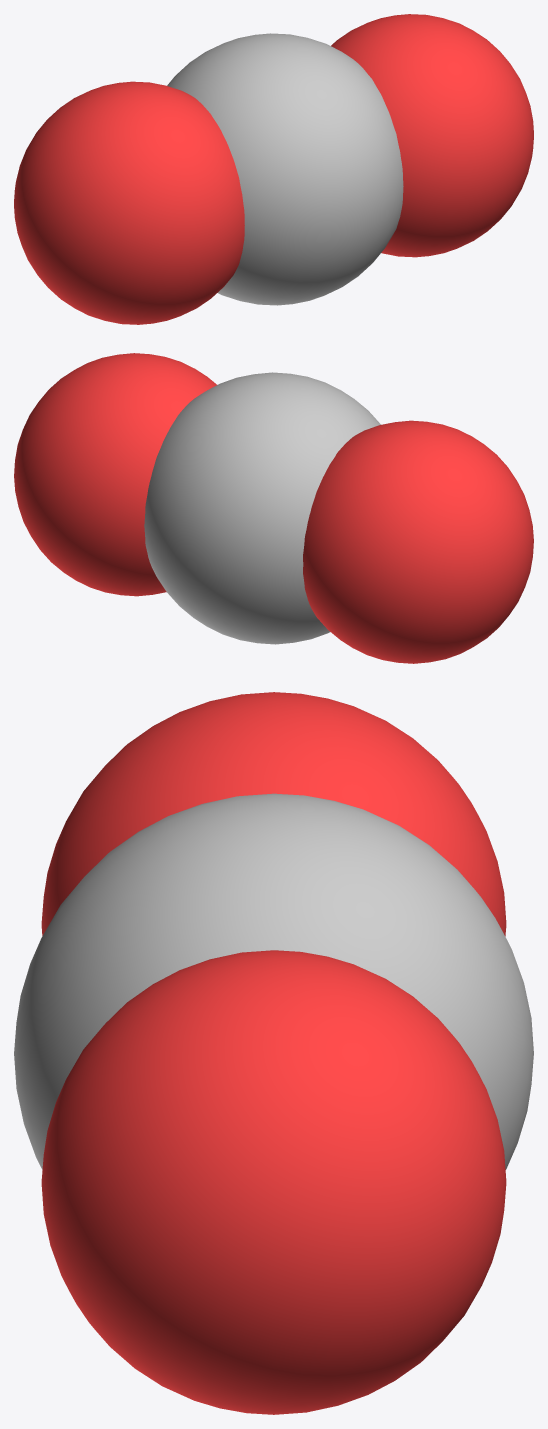
3 renders of one model, top to bottom at view 1: azimuth 30°, elevation 25°; view 2: azimuth 150°, elevation 25°; view 3: azimuth 270°, elevation 25°, orthographic. The views are drawn at different scales.
Visible parts, largest first — view 1: O_Atom_1, C_Atom, O_Atom; view 2: O_Atom_1, C_Atom, O_Atom; view 3: O_Atom, C_Atom, O_Atom_1.
Boxes of the visible parts, x1,y1,x2,y2 form: O_Atom_1: (14, 81, 244, 324); C_Atom: (167, 33, 403, 305); O_Atom: (331, 14, 533, 257); O_Atom_1: (303, 420, 533, 663); C_Atom: (144, 372, 380, 644); O_Atom: (14, 353, 216, 596); O_Atom: (41, 950, 506, 1414); C_Atom: (14, 793, 533, 1169); O_Atom_1: (41, 692, 506, 936).
Bounding box in the file's own units: 4.22 × 2.04 × 2.04.
